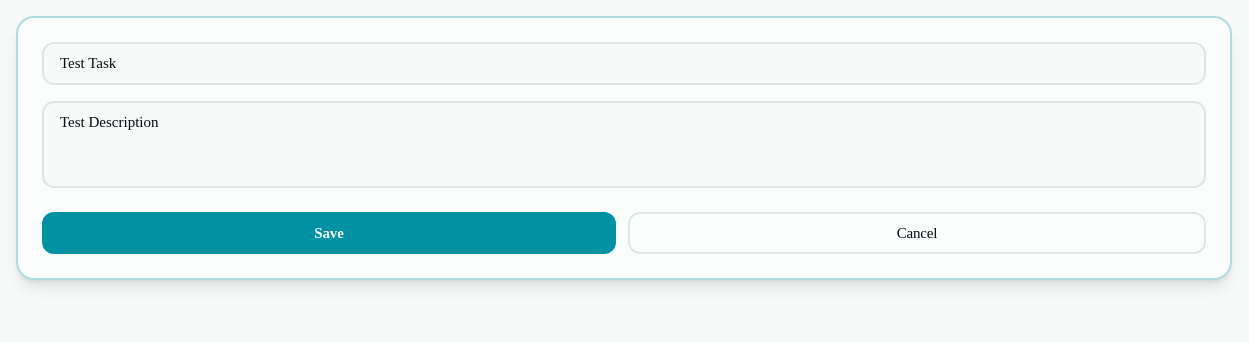
Test case: TaskCard › should show validation error for empty title
This screenshot has width=1249, height=342.
Clear the field showing "Test Task": coordinates (624, 63) [42,42,1206,84]
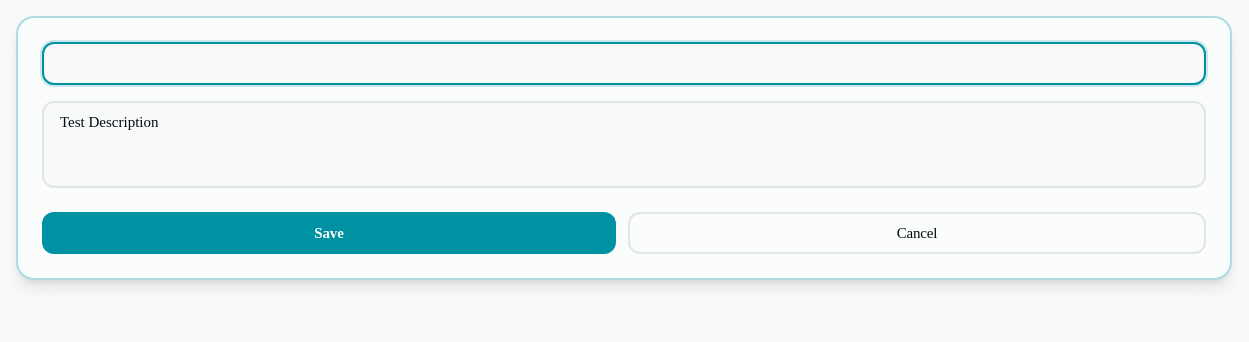
Click the button "Save": coordinates (329, 233) [42,212,616,254]
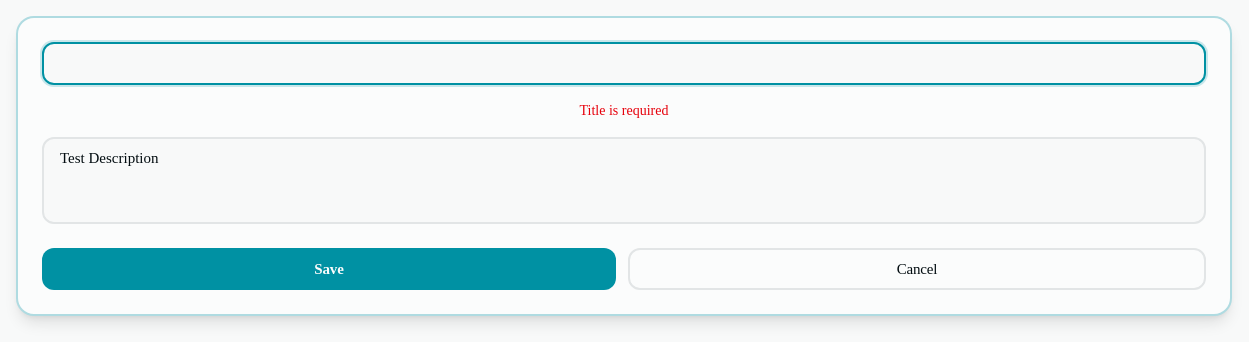
Expected: the text "Title is required" is shown, [580,102,668,118]
